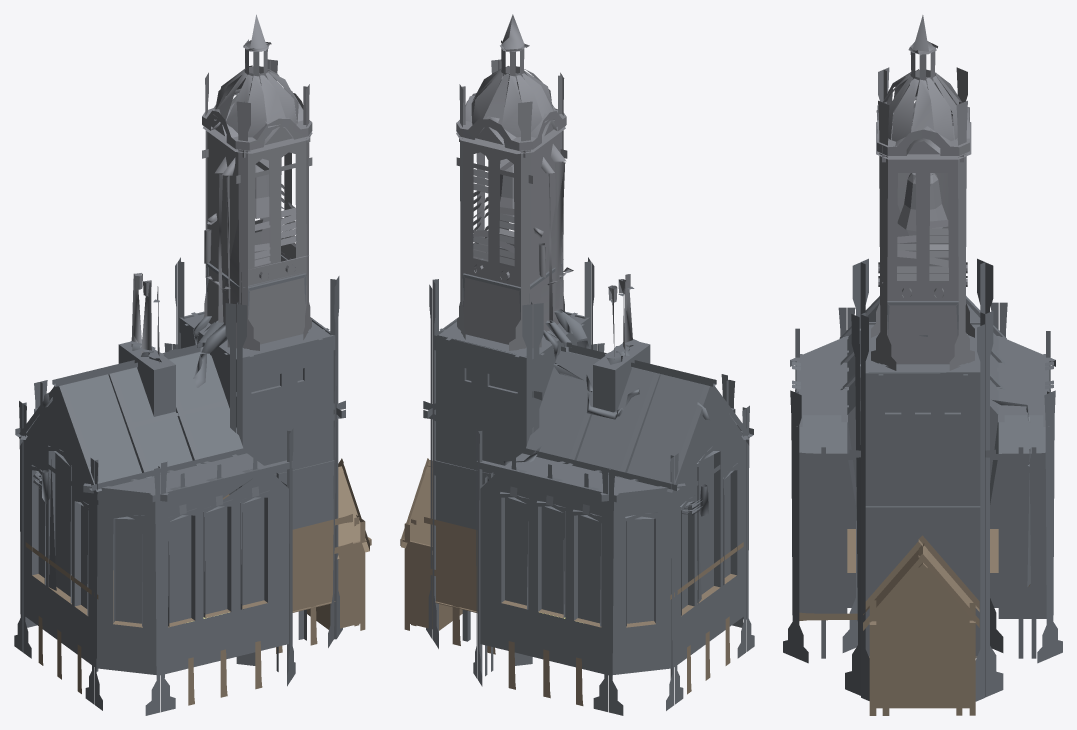
The model's file is house_of_prayer.glb.
3 views of the same model, side by side, from view 1: azimuth 30°, elevation 25°; view 2: azimuth 150°, elevation 25°; view 3: azimuth 270°, elevation 25° (orthographic). The views are drawn at different scales.
Parts seen in each view (by area): view 1: house_of_prayer_Building; view 2: house_of_prayer_Building; view 3: house_of_prayer_Building.
Part boxes in pixels (x1,y1,x2,y2): house_of_prayer_Building: (14, 14, 371, 715); house_of_prayer_Building: (400, 14, 754, 715); house_of_prayer_Building: (783, 15, 1062, 715).
Bounding box in the file's own units: 10.21 × 20.46 × 7.84.
